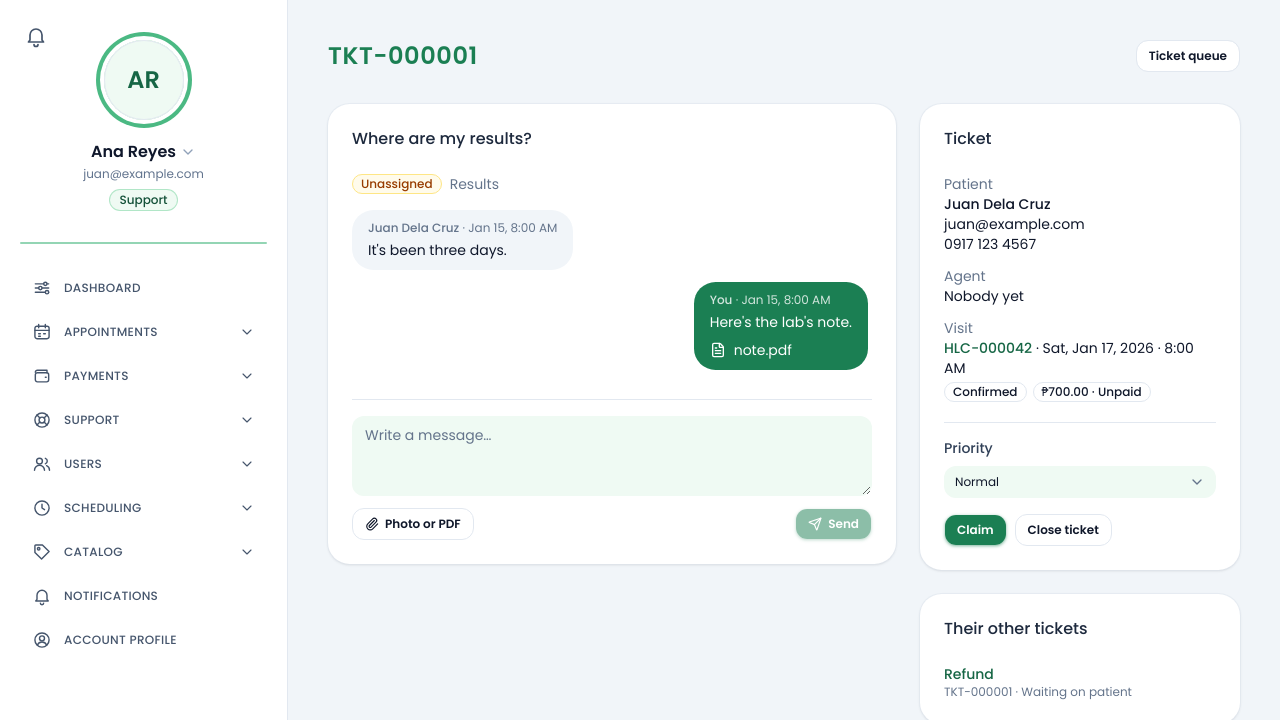
Ticket page › gives support the patient's context and lets them claim and set the priority
Check: the link "HLC-000042" is shown, box [944,338,1032,358]
Check: the text "0917 123 4567" is shown, box [944,234,1036,254]
Click the button "Claim" at [975, 530], box [944,514,1007,546]
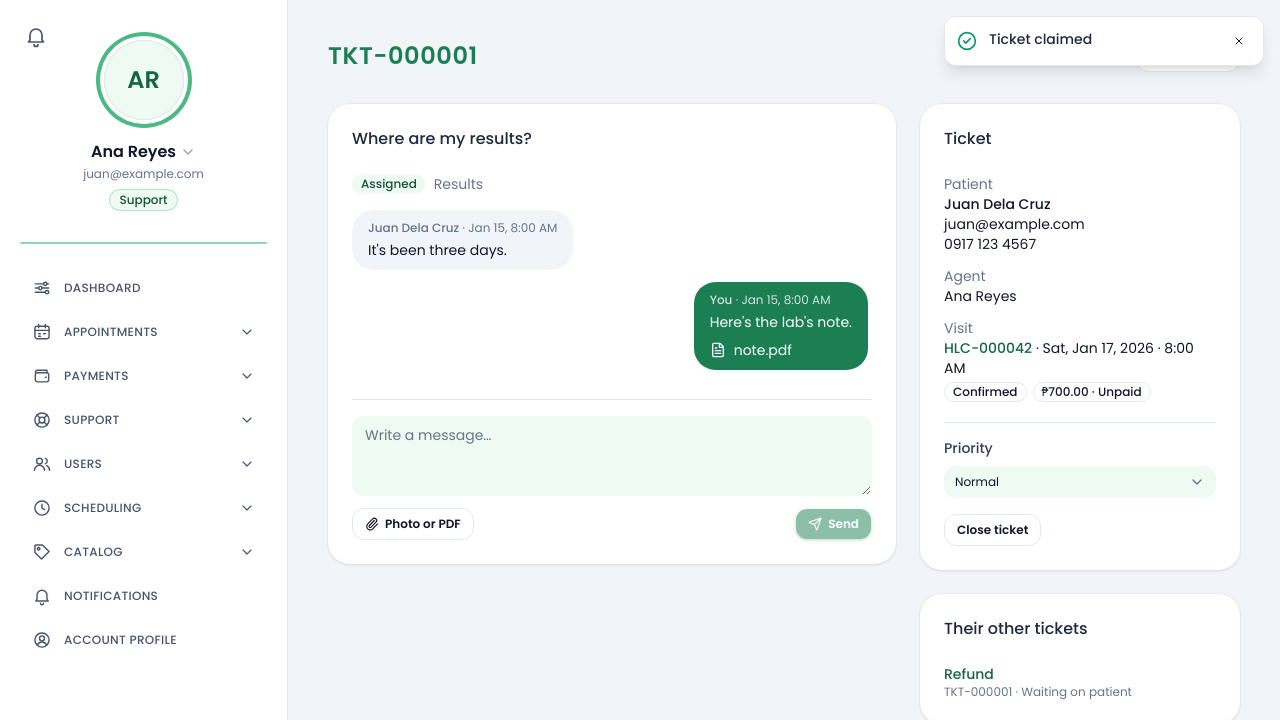
Check: the text "Ticket claimed" is shown, box [989,29,1092,49]
Click the dropdown named "Priority" at [977, 482], box [944,466,1216,498]
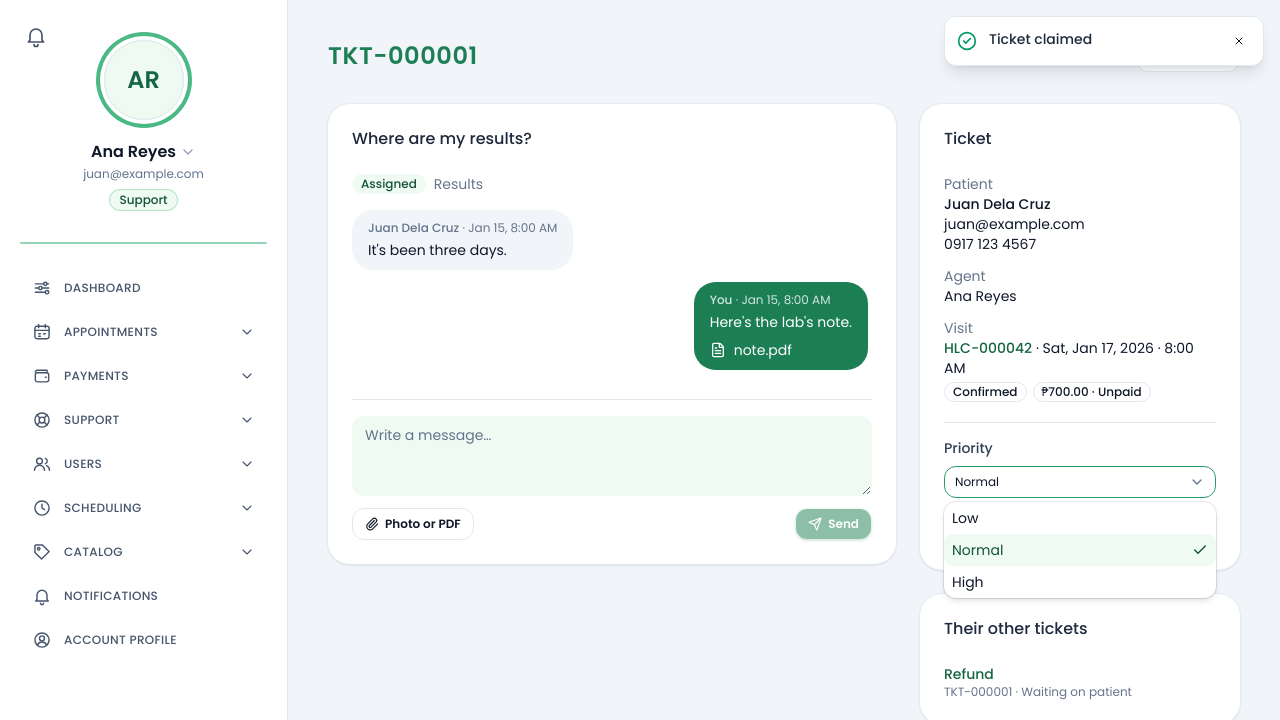
Click the option "High" at [968, 582], box [952,572,984,592]
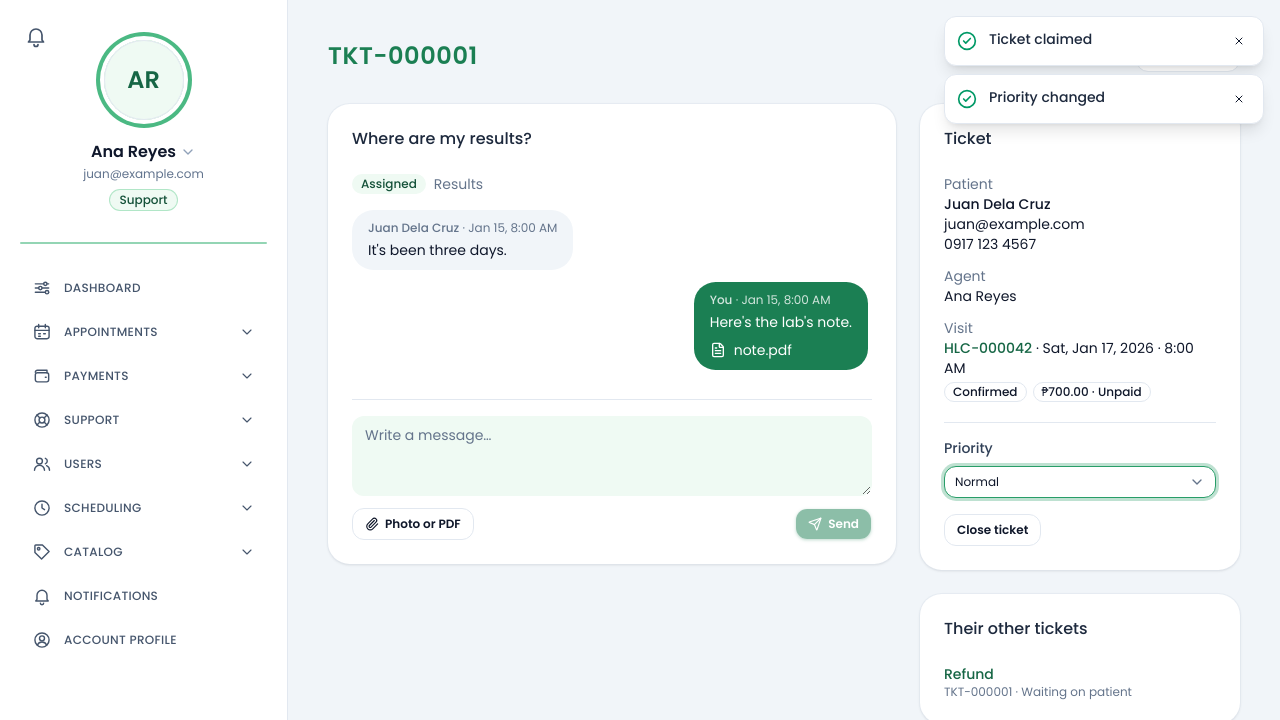
Check: the text "Priority changed" is shown, box [989,87,1105,107]
